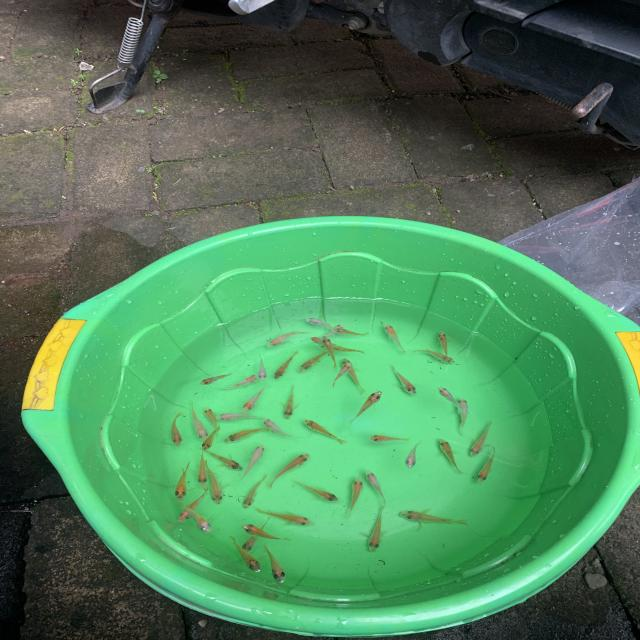nila: (264, 452, 316, 489), (395, 507, 476, 527), (364, 498, 391, 554), (300, 417, 351, 446), (175, 485, 213, 522), (228, 535, 265, 573), (239, 471, 271, 512), (348, 389, 384, 425), (240, 514, 274, 552), (199, 446, 247, 472), (234, 443, 266, 482), (435, 437, 465, 477), (256, 506, 316, 526), (260, 415, 307, 440), (176, 502, 215, 532), (203, 459, 227, 506), (264, 328, 313, 351), (263, 543, 290, 584), (468, 419, 496, 458), (186, 400, 213, 440), (296, 481, 342, 504), (386, 363, 418, 396), (475, 444, 501, 484), (295, 348, 333, 375), (299, 313, 341, 337), (242, 523, 295, 542), (222, 424, 272, 444), (273, 348, 302, 381), (319, 332, 342, 372), (408, 348, 461, 365), (214, 374, 263, 392), (345, 475, 365, 518), (437, 384, 465, 414), (174, 460, 194, 502), (342, 356, 364, 394), (382, 322, 408, 354), (364, 468, 386, 505), (317, 320, 352, 343), (202, 405, 227, 437), (240, 386, 268, 414), (199, 421, 225, 451), (328, 361, 354, 390), (282, 383, 300, 422), (166, 411, 184, 450), (213, 411, 270, 423), (436, 330, 458, 360), (318, 341, 372, 353), (308, 334, 347, 350), (197, 371, 236, 387), (332, 325, 378, 338), (405, 440, 423, 470), (255, 353, 272, 384), (366, 434, 415, 444), (196, 447, 207, 488), (458, 395, 470, 430)
